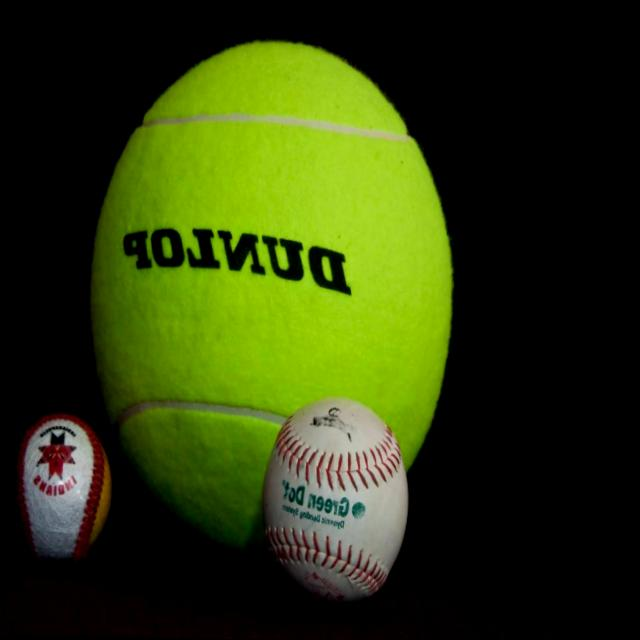Tennis Ball: (86, 36, 457, 558), (256, 394, 409, 606), (10, 415, 112, 558)
